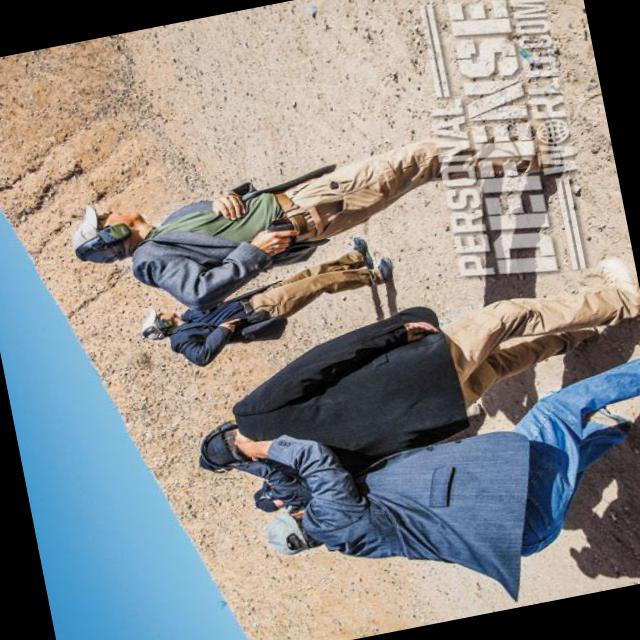handgun: (261, 215, 305, 255), (216, 312, 249, 334)
